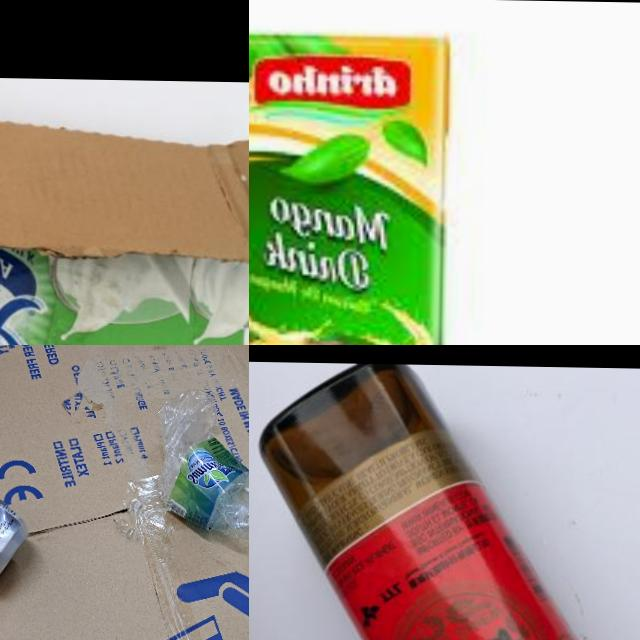caixinha: (249, 24, 452, 345)
garrafa de vidro: (249, 361, 640, 640)
garrafa plástica: (153, 389, 249, 538)
lata: (0, 489, 29, 586)
papelão: (0, 345, 249, 640), (0, 72, 249, 345)
